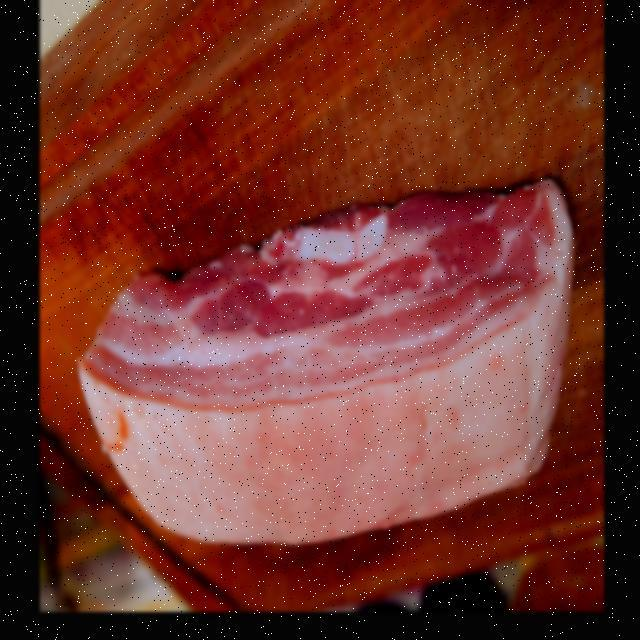pork: (73, 169, 578, 549)
